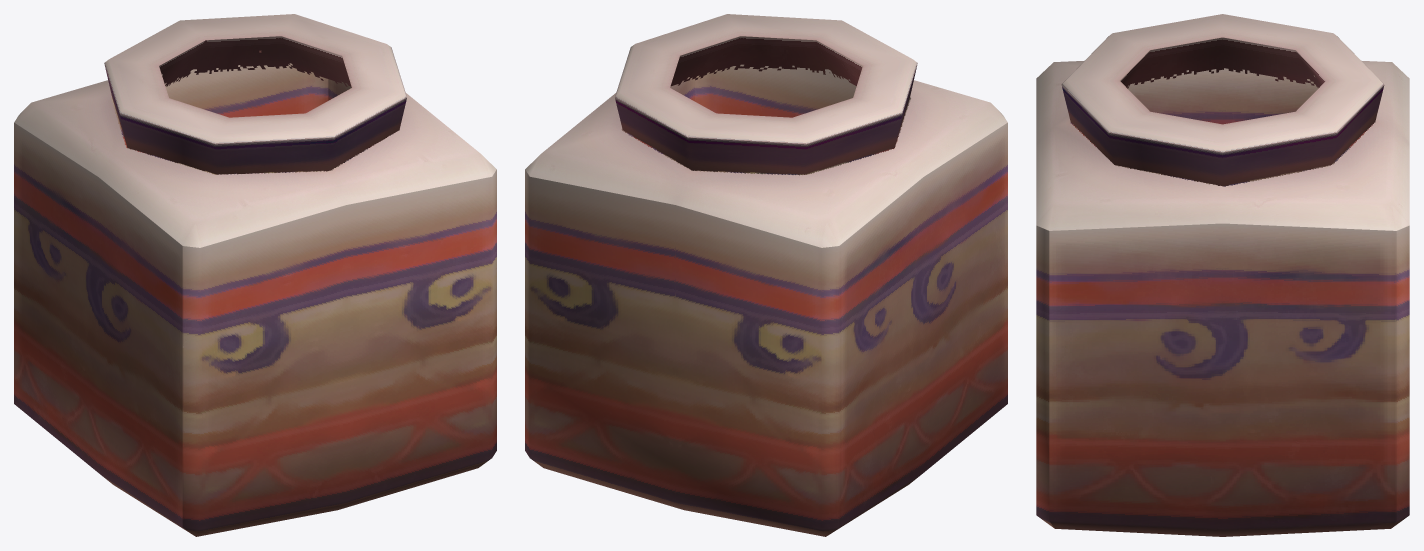
Rendered from jar_clay.glb.
3 views of the same model, side by side, from view 1: azimuth 30°, elevation 25°; view 2: azimuth 150°, elevation 25°; view 3: azimuth 270°, elevation 25° (orthographic). The views are drawn at different scales.
Visible parts, largest first — view 1: 陶土罐子; view 2: 陶土罐子; view 3: 陶土罐子.
Boxes of the visible parts, x1,y1,x2,y2 form: 陶土罐子: (14,14,496,536); 陶土罐子: (525,14,1007,536); 陶土罐子: (1036,14,1409,536).
Bounding box in the file's own units: 0.4979 × 0.5666 × 0.4979.
1 material, 1 textured.
